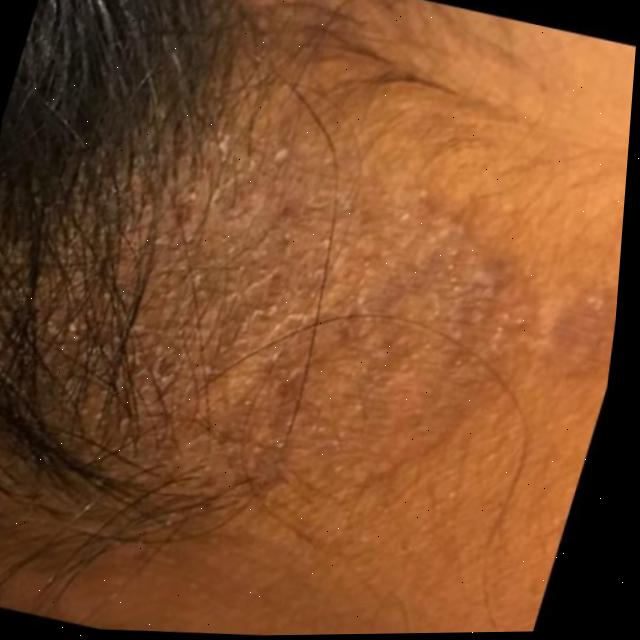Eczema: (160, 136, 575, 401)
